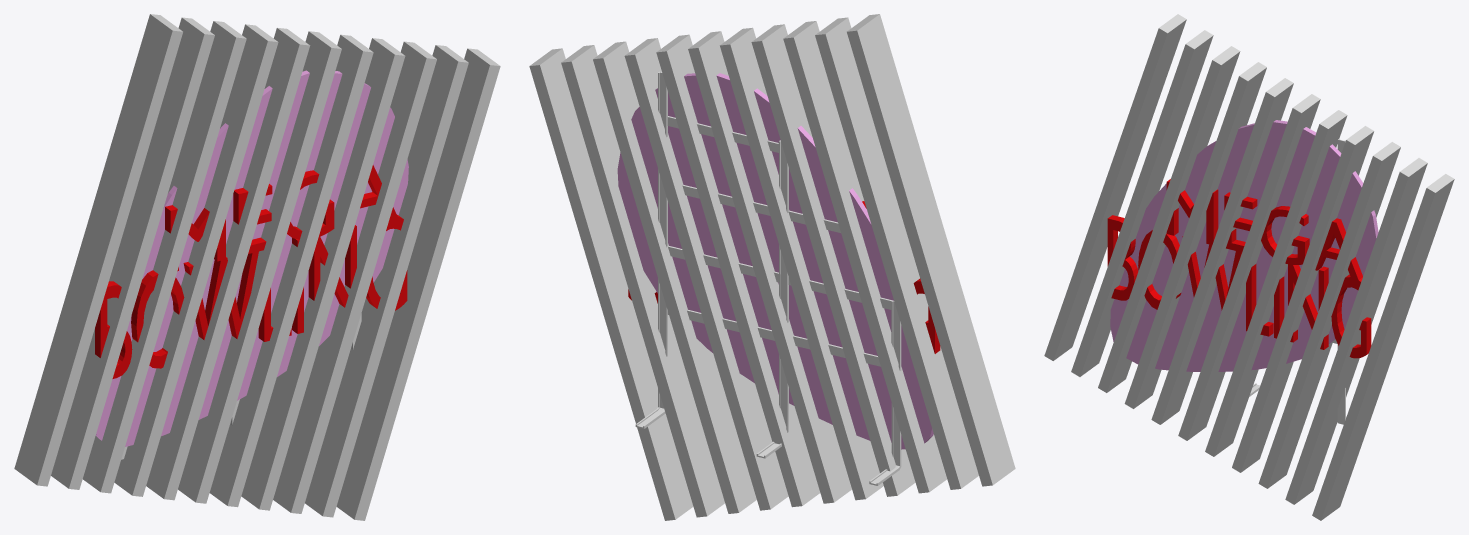
Rendered from bowlingSIgn.fbx.
3 views of the same model, side by side, from view 1: azimuth 30°, elevation 25°; view 2: azimuth 150°, elevation 25°; view 3: azimuth 330°, elevation 25° (orthographic). The views are drawn at different scales.
Parts seen in each view (by area): view 1: Cube_1, Plane_2, Text.002_6, Text.003_7; view 2: Cube_1, Plane_2, Cube.001_4, Cube.002_5; view 3: Cube_1, Plane_2, Text.002_6, Text.003_7.
Boxes of the visible parts, x1=… form: Cube_1: x1=14, y1=14, x2=500, y2=520; Plane_2: x1=95, y1=70, x2=408, y2=446; Text.002_6: x1=95, y1=215, x2=407, y2=378; Text.003_7: x1=165, y1=165, x2=397, y2=271; Cube_1: x1=529, y1=14, x2=1015, y2=520; Plane_2: x1=617, y1=73, x2=933, y2=449; Cube.001_4: x1=635, y1=71, x2=901, y2=485; Cube.002_5: x1=667, y1=116, x2=892, y2=366; Cube_1: x1=1044, y1=14, x2=1454, y2=520; Plane_2: x1=1110, y1=120, x2=1378, y2=371; Text.002_6: x1=1107, y1=215, x2=1371, y2=358; Text.003_7: x1=1166, y1=179, x2=1362, y2=280.
Bounding box in the file's own units: 533 × 590 × 78.58.
